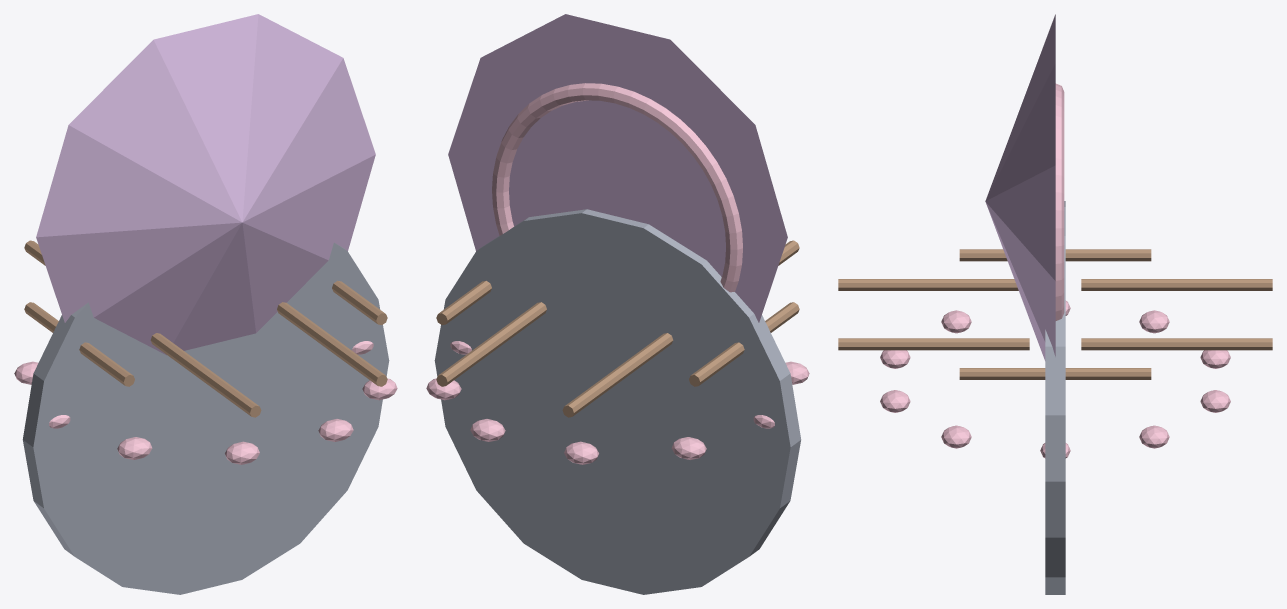
File: hero_flower_pavilion.glb
3 renders of one model, left to right at view 1: azimuth 30°, elevation 25°; view 2: azimuth 150°, elevation 25°; view 3: azimuth 270°, elevation 25°, orthographic. The views are drawn at different scales.
Visible parts, largest first — view 1: world; view 2: world; view 3: world.
Boxes of the visible parts, x1=… form: world: x1=14, y1=14, x2=397, y2=594; world: x1=426, y1=14, x2=809, y2=594; world: x1=838, y1=14, x2=1272, y2=594.
Size of the model in its own units: 3.1 by 4.63 by 3.41.
